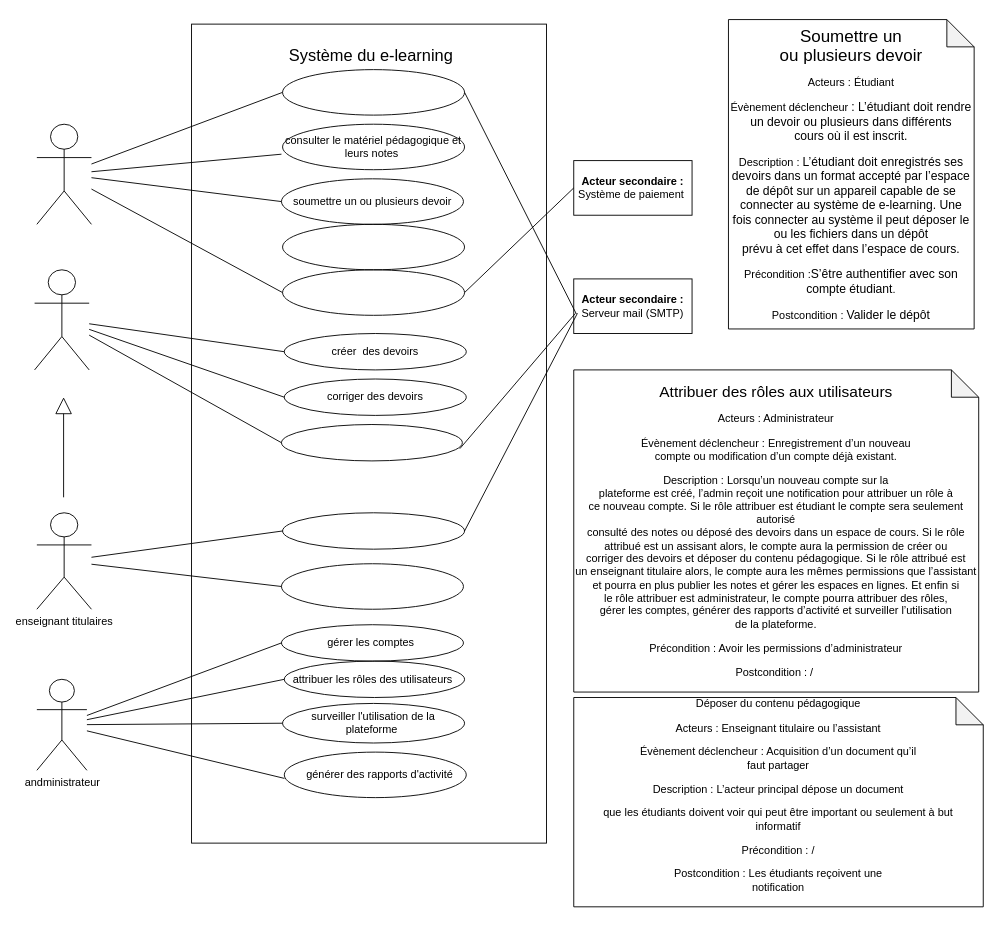
This 999x934 diagram has some shape labels left out. Here are the shapes that lost their labels. From the top down, the box of each, then its label:
(282, 69, 465, 115): recevoir des notifications
(36, 123, 91, 224): étudiant
(282, 223, 465, 270): gérer les participants
(282, 269, 465, 315): s'incrire dans un ou plusieurs cours gratuit ou payant
(34, 269, 89, 370): assisstant
(281, 424, 462, 461): déposer du contenu pédagogique,
(282, 512, 465, 549): publier des notes
(281, 563, 463, 609): gérer des espaces de cours en ligne
